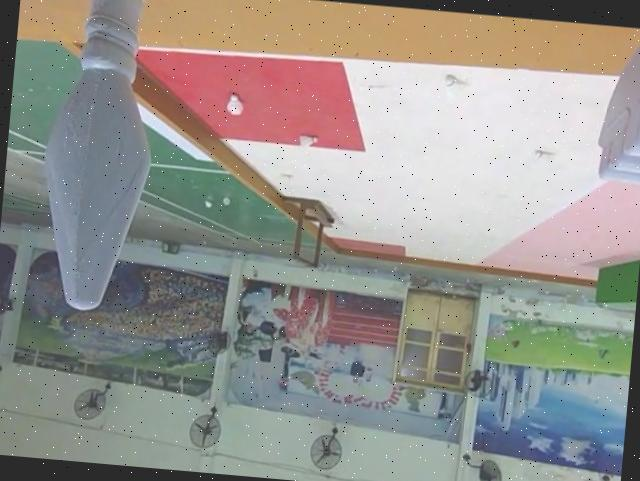Fist: (588, 24, 640, 191)
Sph: (26, 0, 169, 326)
